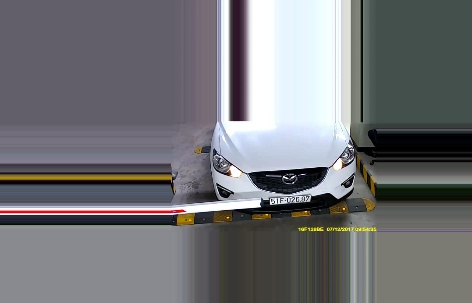plate: (268, 192, 312, 206)
